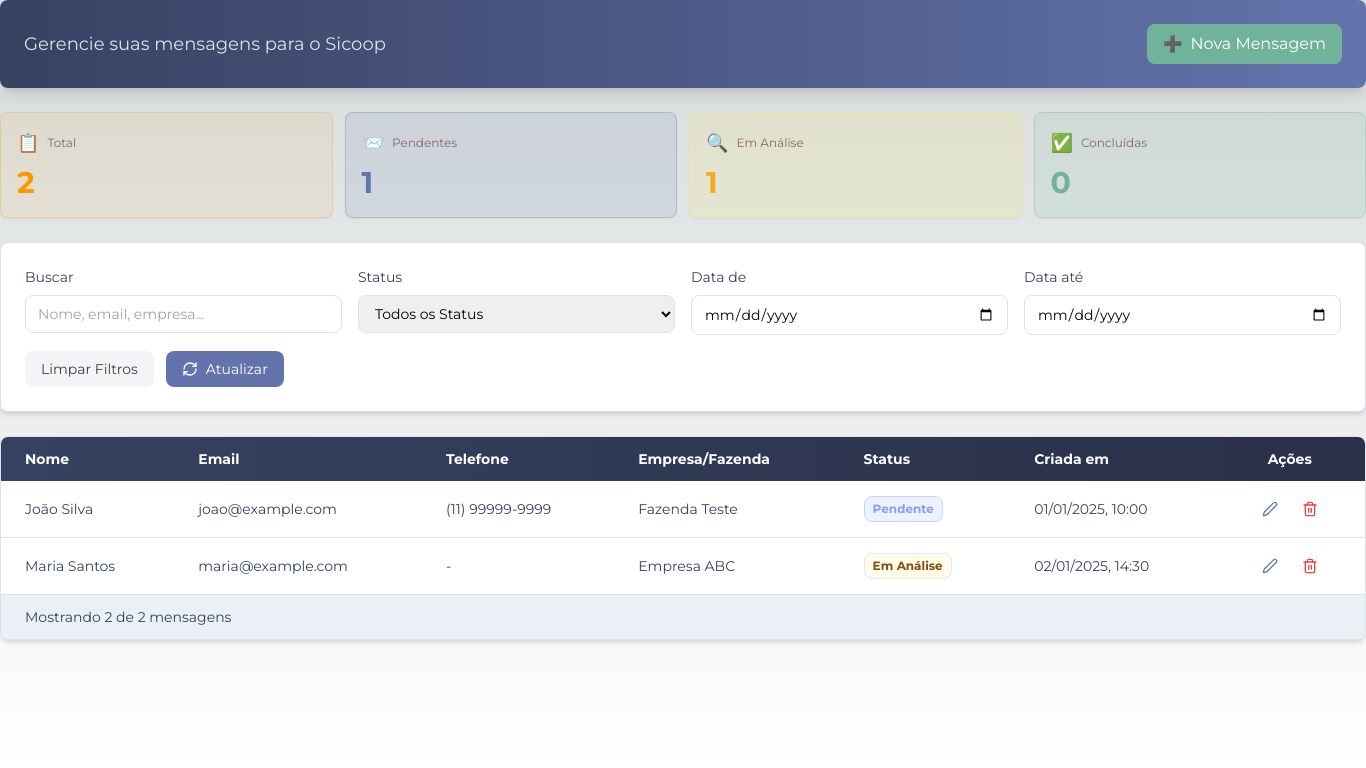
Test: MensagensManager › deve mostrar dados corretos no formulário de edição
This screenshot has width=1366, height=768.
// Clicar no botão editar da primeira mensagem
Click the button titled "Editar" in the row of "João Silva" at (1270, 509), box top-left (1254, 493), bottom-right (1286, 525)
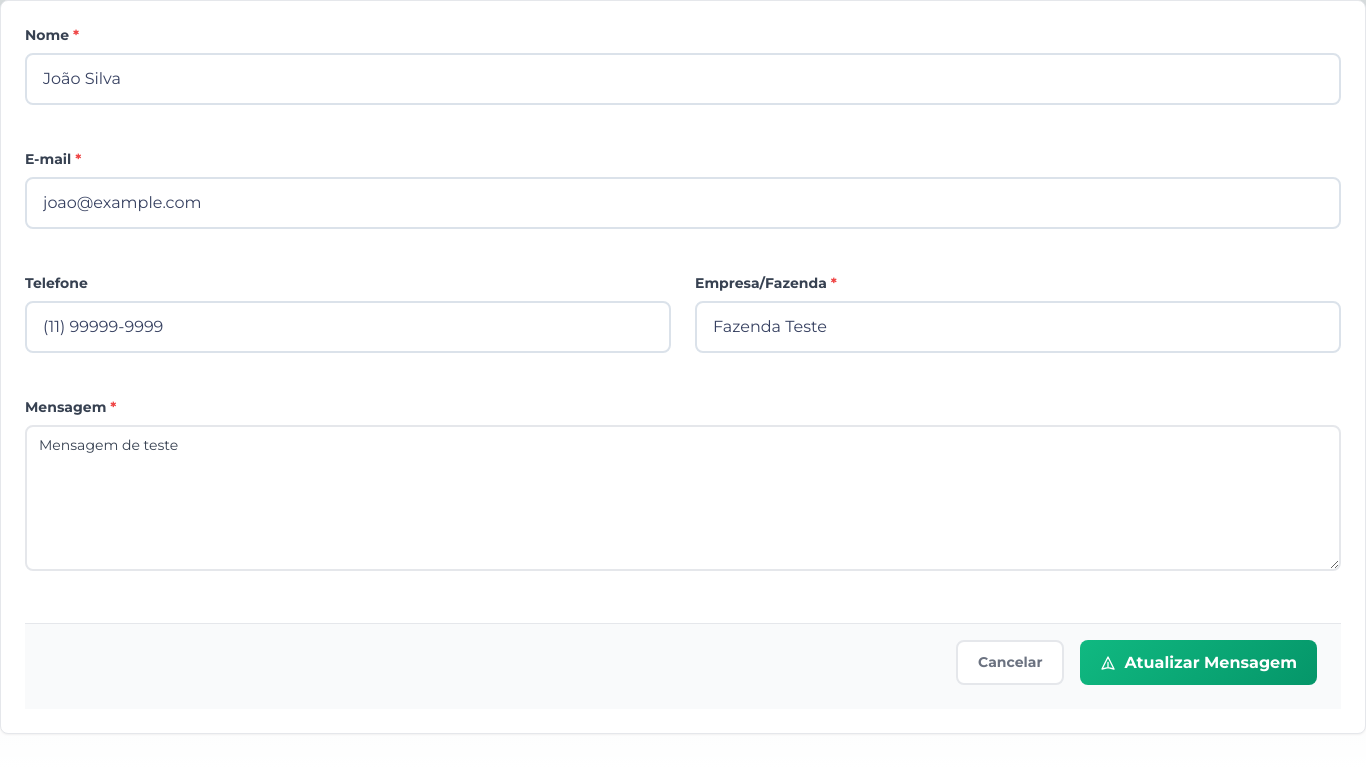
Check: the field showing "João Silva" is shown, box top-left (25, 53), bottom-right (1341, 105)
Check: the field showing "joao@example.com" is shown, box top-left (25, 177), bottom-right (1341, 229)
Check: the field showing "(11) 99999-9999" is shown, box top-left (25, 301), bottom-right (671, 353)
